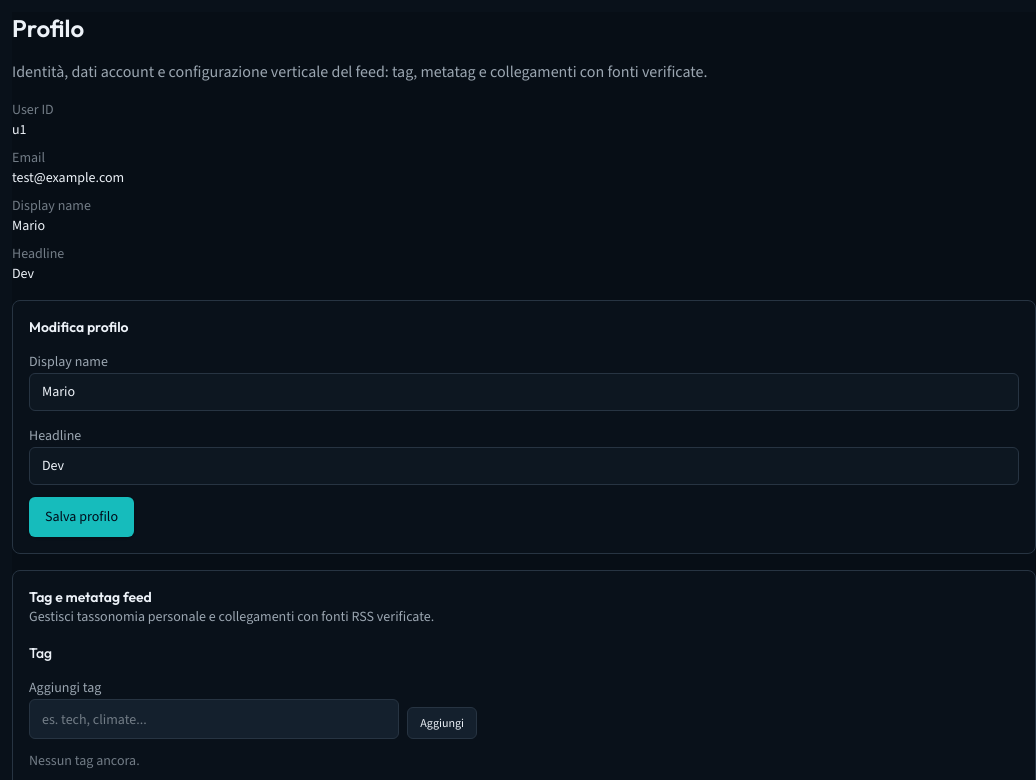
Test: ProfilePage › Profile submit valido: update profilo chiamato con payload corretto
Modifica campi
Step 1. Replace the text in the field labelled "Display name" with "Luigi" → (524, 392), box [29,373,1019,411]
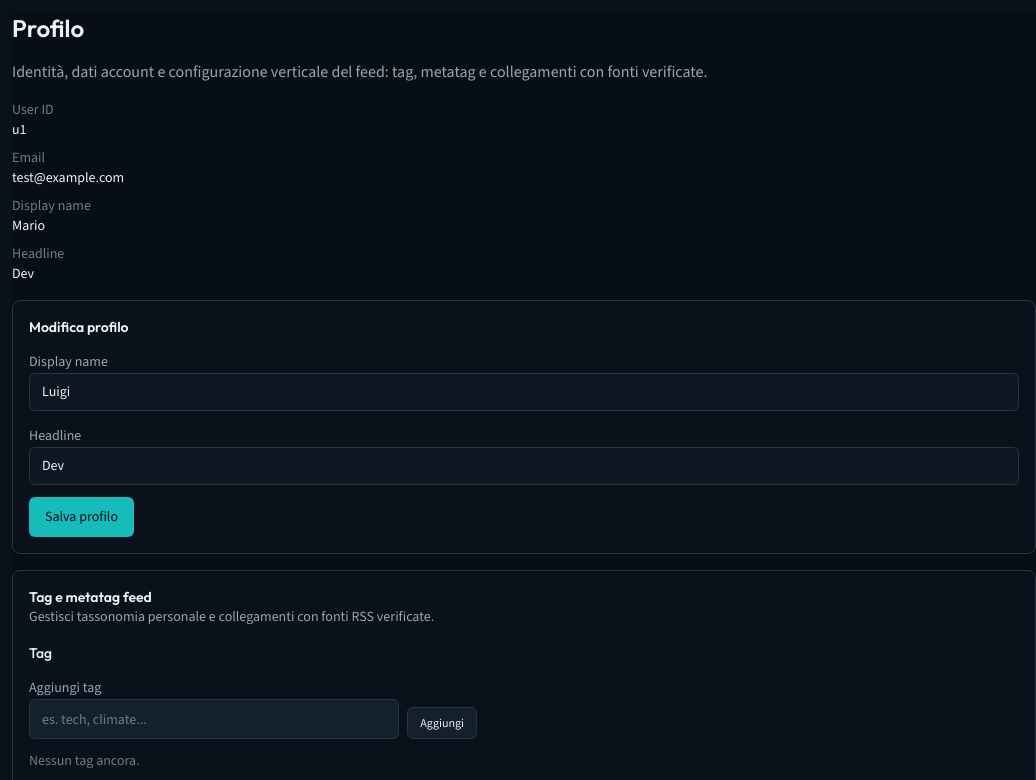
Step 2. Replace the text in the field labelled "Headline" with "CTO" → (524, 466), box [29,447,1019,485]
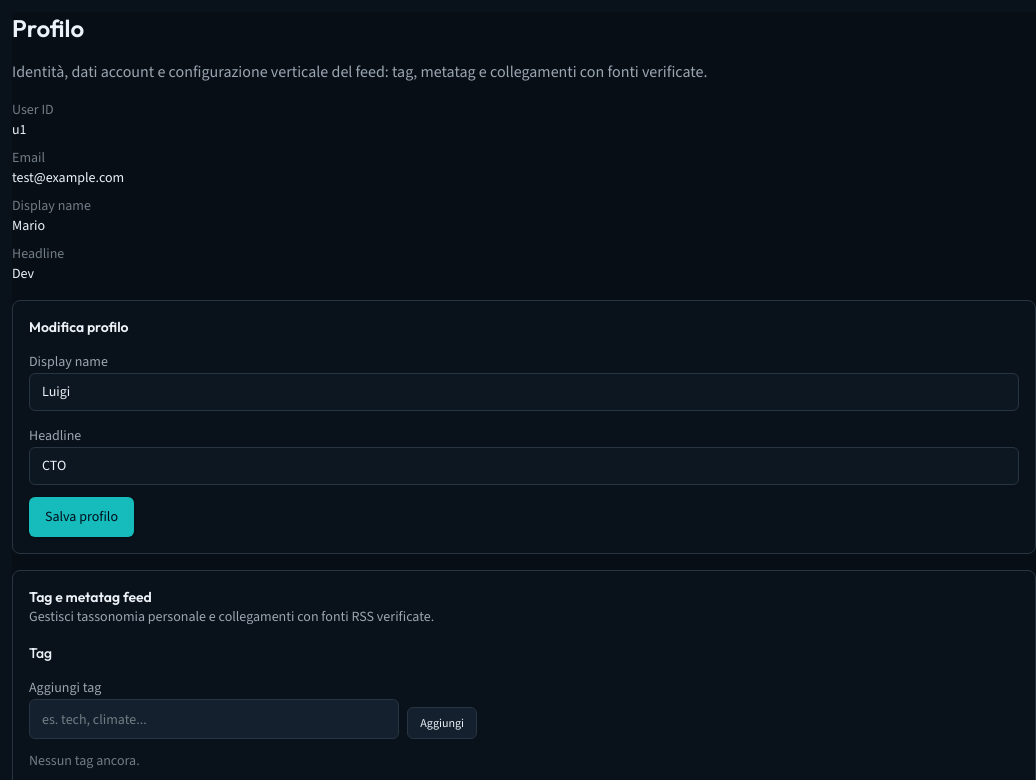
Step 3. Click the button "Salva profilo" → (82, 517), box [29,497,134,537]
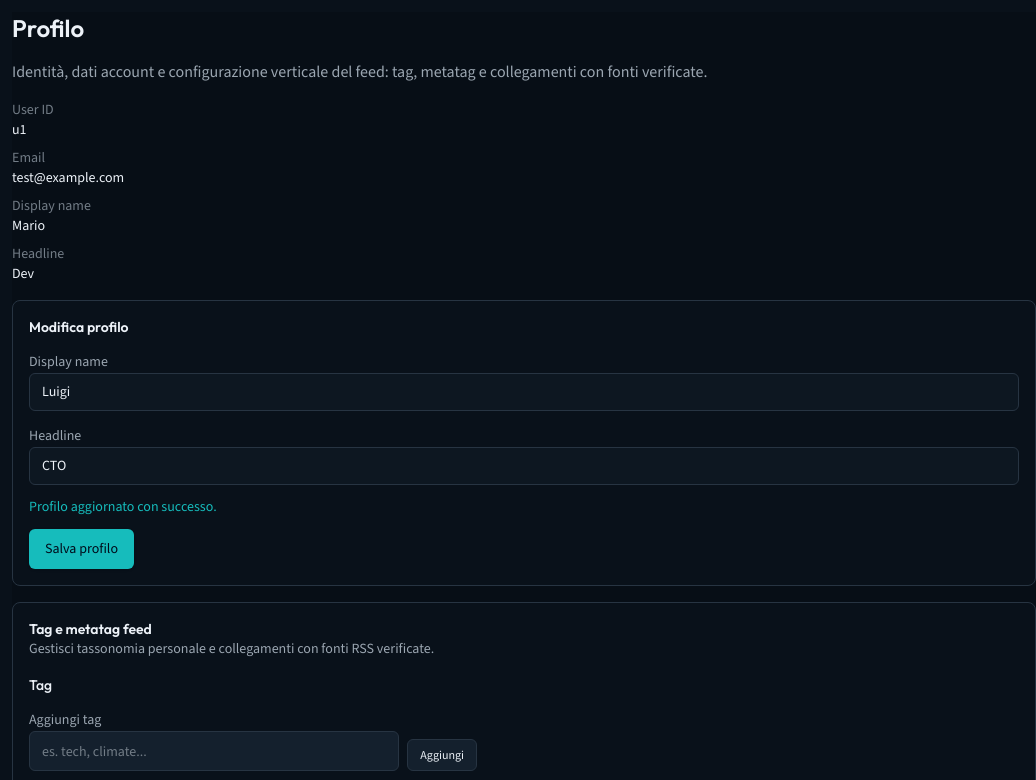
Now the message shows "Profilo aggiornato", box [29,497,217,516]
